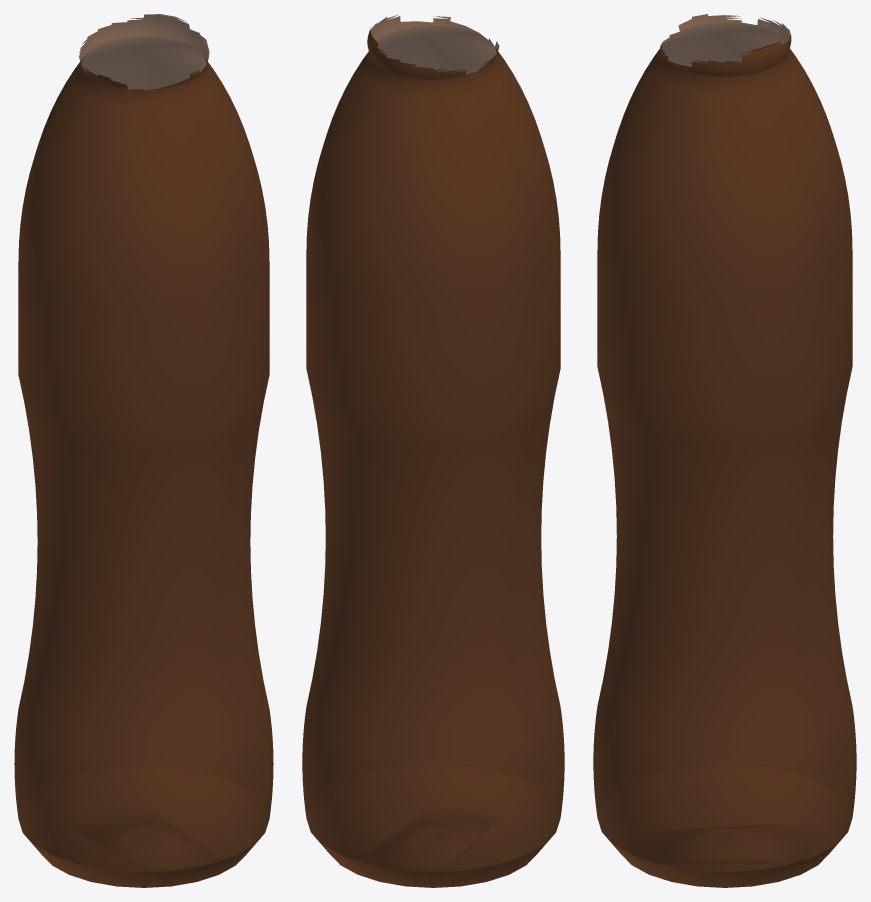
3 renders of one model, left to right at view 1: azimuth 30°, elevation 25°; view 2: azimuth 150°, elevation 25°; view 3: azimuth 270°, elevation 25°, orthographic.
Size of the model in its own units: 0.5151 by 1.76 by 0.5151.
